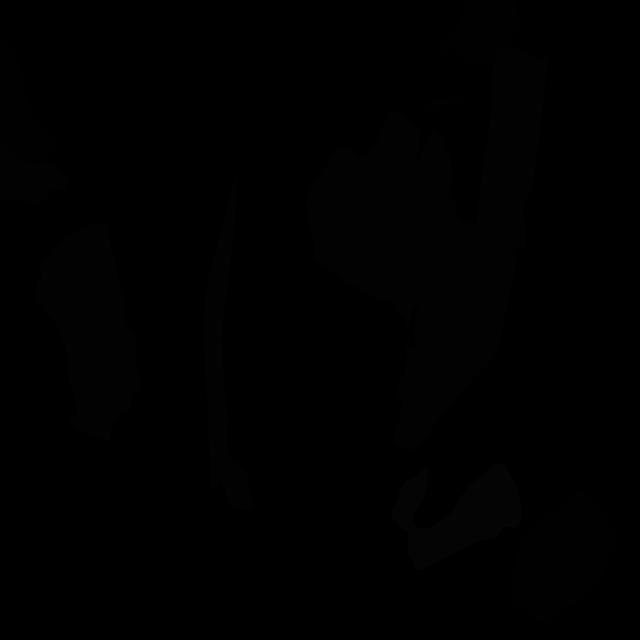cardboard: (306, 109, 517, 451), (34, 224, 142, 442), (203, 170, 252, 511), (476, 44, 548, 248), (0, 144, 68, 204)
rigid_plastic: (510, 490, 616, 624), (0, 29, 56, 165), (435, 0, 520, 66), (424, 90, 472, 119)
soft_plastic: (391, 464, 522, 570)
